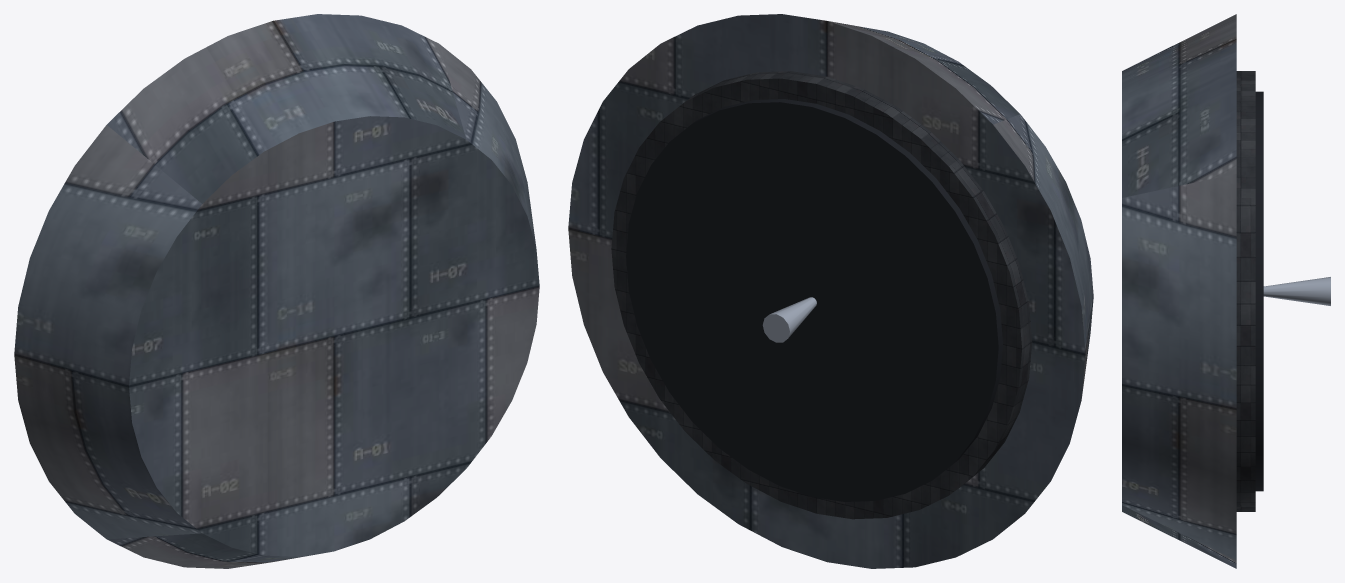
File: arch_deflector.glb
The picture shows the model from 3 angles, left to right: view 1: azimuth 30°, elevation 25°; view 2: azimuth 150°, elevation 25°; view 3: azimuth 270°, elevation 25°; orthographic projection. The views are drawn at different scales.
Visible parts, largest first — view 1: arch_deflector; view 2: arch_deflector; view 3: arch_deflector.
Boxes of the visible parts, x1,y1,x2,y2 form: arch_deflector: (14,14,539,568); arch_deflector: (568,14,1093,568); arch_deflector: (1122,14,1330,568).
Size of the model in its own units: 6.8 by 6.8 by 2.55.
Materials: 6 (2 with a texture image).
